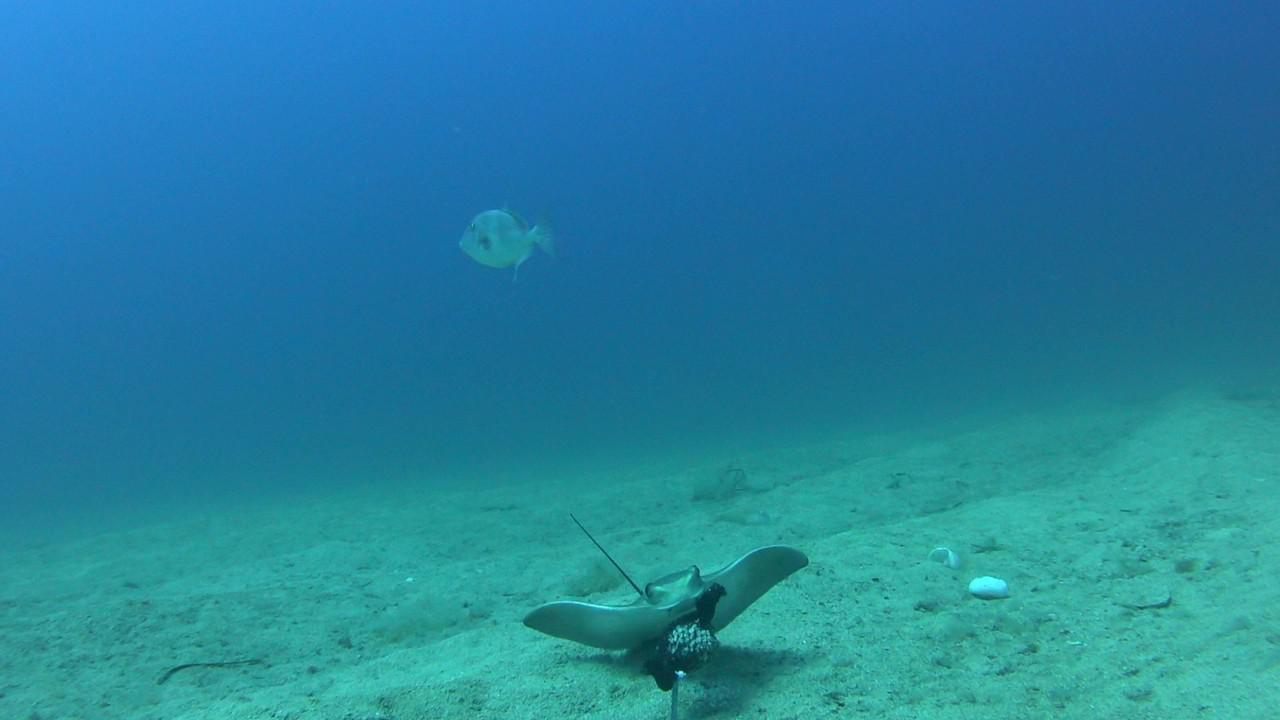balistes: (457, 188, 565, 284)
myliobatis: (501, 498, 827, 643)
